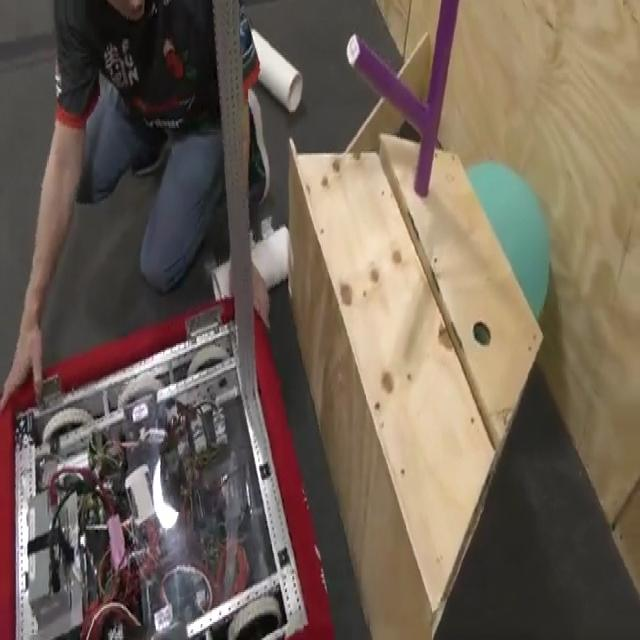Coral: (210, 224, 294, 310), (248, 23, 303, 114)
